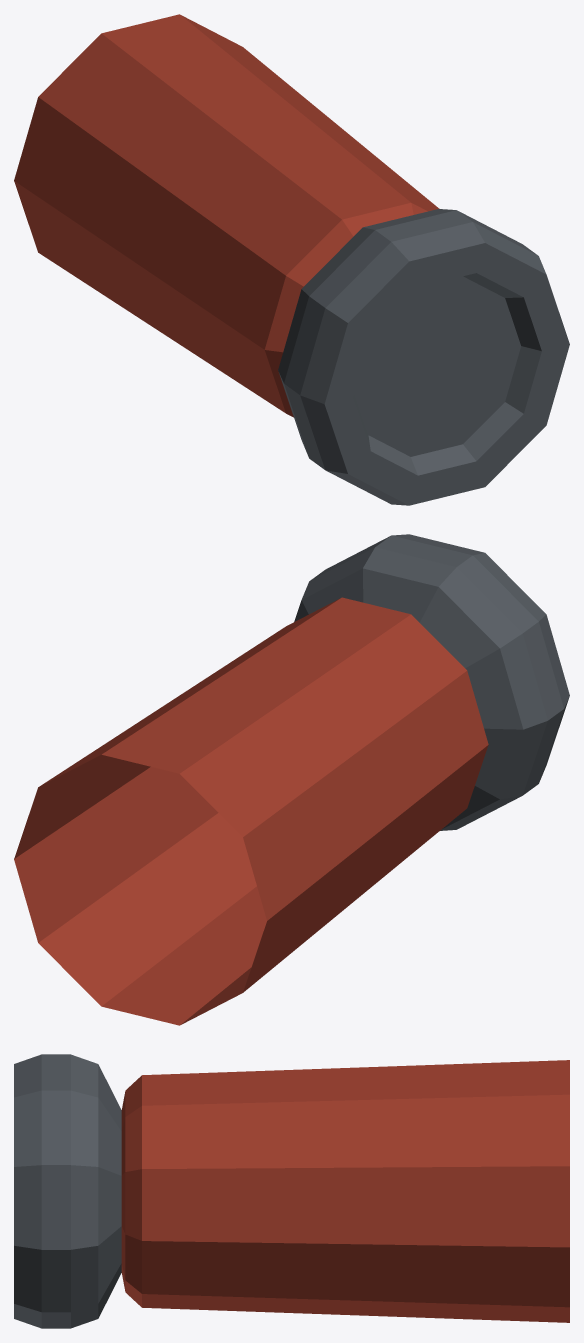
The model's file is Personal_Vehicle_01_Head_Light_Big_Red.fbx.
3 views of the same model, one above another, from view 1: azimuth 30°, elevation 25°; view 2: azimuth 150°, elevation 25°; view 3: azimuth 270°, elevation 25° (orthographic). The views are drawn at different scales.
Parts seen in each view (by area): view 1: Personal_Vehicle_01_Head_Light_Big_Red; view 2: Personal_Vehicle_01_Head_Light_Big_Red; view 3: Personal_Vehicle_01_Head_Light_Big_Red.
Part boxes in pixels (bbox=[...]): Personal_Vehicle_01_Head_Light_Big_Red: bbox=[14, 14, 569, 505]; Personal_Vehicle_01_Head_Light_Big_Red: bbox=[14, 534, 569, 1025]; Personal_Vehicle_01_Head_Light_Big_Red: bbox=[14, 1054, 569, 1328].
Size of the model in its own units: 32.7 by 31.1 by 65.84.
2 materials, 2 textured.
